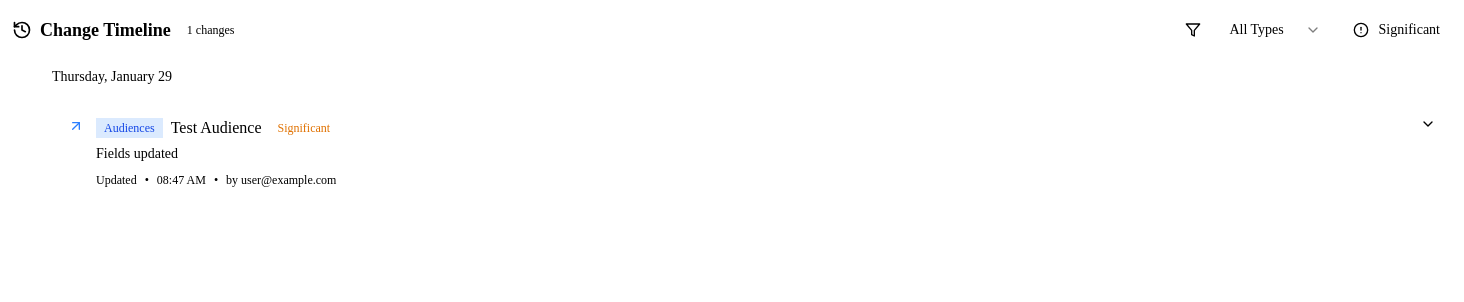
Test: ChangeTimeline Component › Expandable Items › expands item to show changed fields on click
Expected: the text "Test Audience" is shown, [171,116,262,140]
Step 1. Click the text "Test Audience" → (129, 128), box [52,100,1452,204]
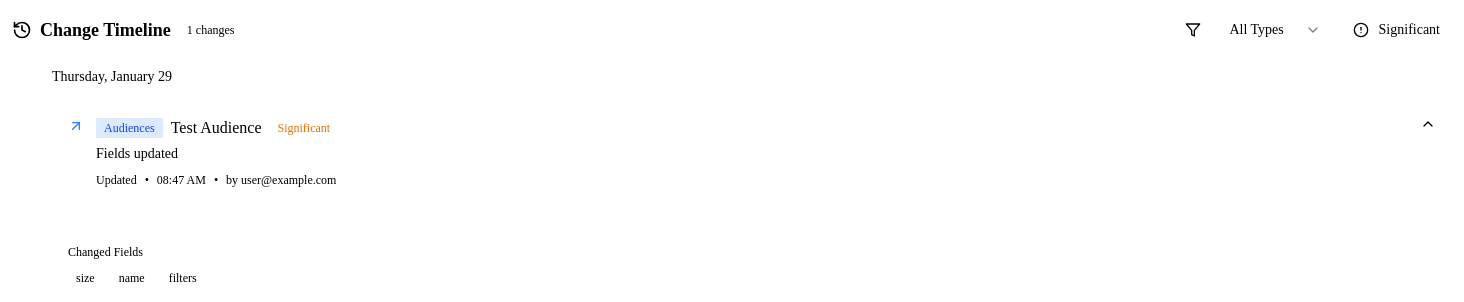
Now the text "Changed Fields" is shown, box [68,245,143,259]
Now the text "size" is shown, box [76,271,95,285]
Now the text "name" is shown, box [119,271,145,285]
